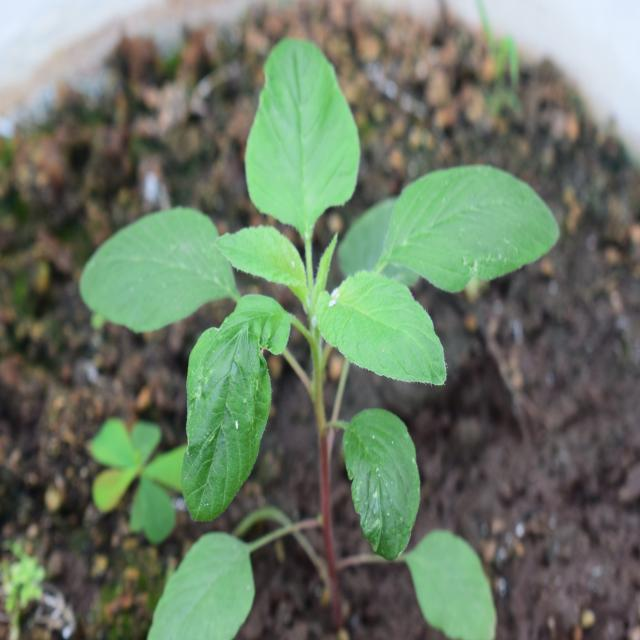pigweed: (74, 52, 545, 563)
